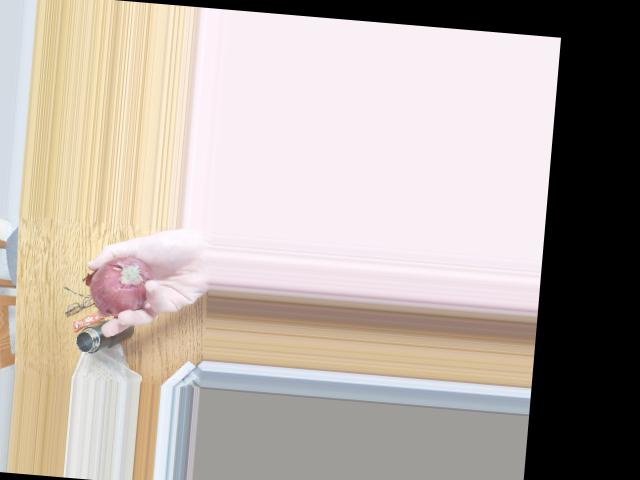onion: (95, 253, 152, 314)
